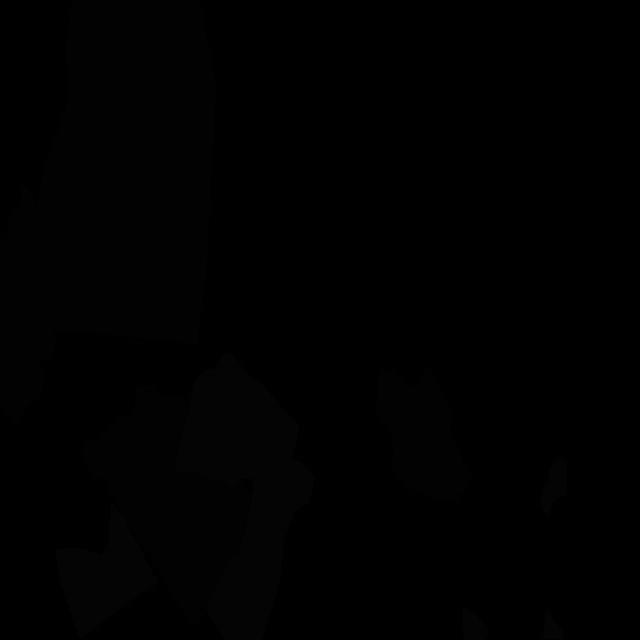cardboard: (37, 0, 216, 344), (79, 384, 251, 627), (0, 186, 61, 421), (375, 365, 472, 501)
soft_plastic: (206, 458, 314, 640), (174, 354, 298, 487), (55, 503, 159, 640), (540, 458, 567, 517), (462, 605, 489, 640), (542, 607, 564, 640)
